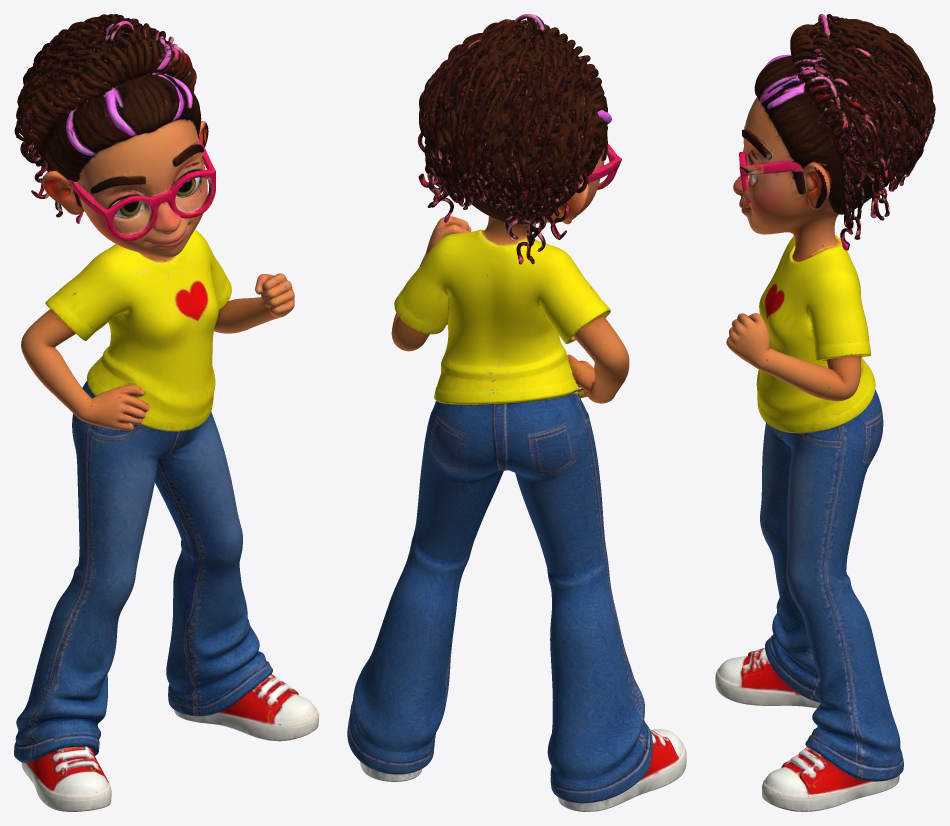
The model's file is Maya.glb.
3 views of the same model, side by side, from view 1: azimuth 30°, elevation 25°; view 2: azimuth 150°, elevation 25°; view 3: azimuth 270°, elevation 25° (orthographic). The views are drawn at different scales.
Parts seen in each view (by area): view 1: mesh; view 2: mesh; view 3: mesh.
Part boxes in pixels (left/top/right/bottom): mesh: left=14, top=14, right=318, bottom=811; mesh: left=347, top=14, right=686, bottom=811; mesh: left=715, top=14, right=935, bottom=811.
Bounding box in the file's own units: 0.8151 × 2 × 0.5584.
1 material, 1 textured.
